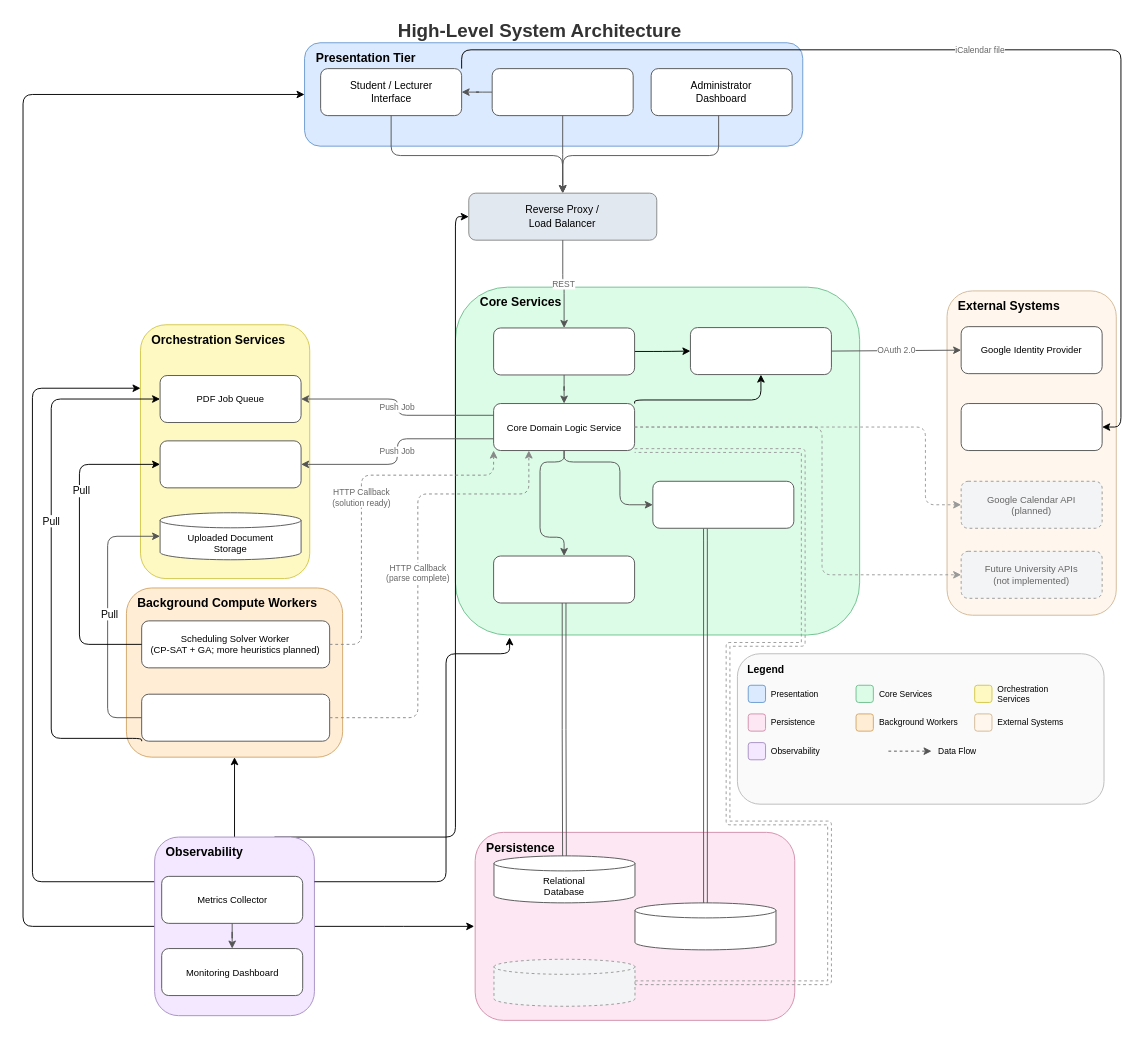
This 1145x1037 diagram has some shape labels left out. The shapes that lost their labels are listed below. From the top down, each one's box as (x1, y1, x2, y2) in pixels, then its label:
(491, 68, 633, 116): University-Branded Interface
(493, 327, 635, 375): Request Handling Layer
(689, 327, 831, 375): Authentication Service
(960, 403, 1102, 451): Calendar Application (.ics import)
(159, 440, 301, 488): Optimiser Job Queue
(652, 480, 794, 528): Session & Rate-Limit Coordination
(493, 555, 635, 603): Data Repository Service
(141, 693, 330, 741): PDF Parser Worker + Adapter-Based Parser
(634, 902, 776, 950): Session Cache
(493, 958, 635, 1006): Planned Solution Cache (not implemented)
